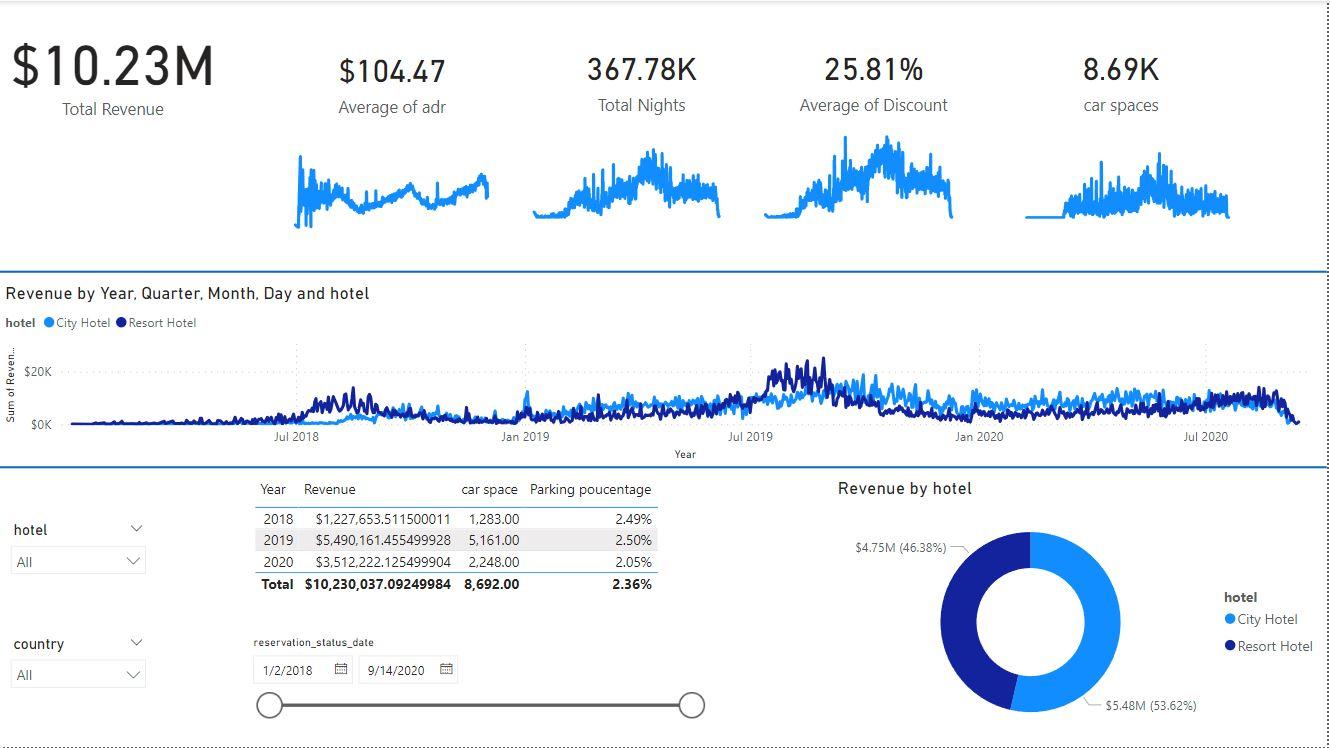

The dashboard page shown, as its layout file describes it:
{"tool":"powerbi","page":{"name":"Page 1","canvas":[1280,720],"ordinal":0},"visuals":[{"type":"card","fields":{"Values":["Sum(Query1.Revenue)"]},"box":[0,11,218.2,109.8],"z":0},{"type":"shape","box":[0,234.6,1280.3,149.6],"z":1},{"type":"shape","box":[0,374.6,1280.3,149.6],"z":2},{"type":"card","fields":{"Values":["Avg(Query1.adr)"]},"box":[231.9,16.5,293.7,119.4],"z":3},{"type":"card","fields":{"Values":["Query1.Total Nights"]},"box":[500.9,0,237.4,149.6],"z":4},{"type":"card","fields":{"Values":["Avg(Query1.Discount)"]},"box":[723.2,0,238.8,149.6],"z":5},{"type":"lineChart","title":"Revenue by Year, Quarter, Month, Day and hotel","fields":{"Y":["Sum(Query1.Revenue)"],"Category":["Query1.reservation_status_date.Variation.Date Hierarchy.Year","Query1.reservation_status_date.Variation.Date Hierarchy.Quarter","Query1.reservation_status_date.Variation.Date Hierarchy.Month","Query1.reservation_status_date.Variation.Date Hierarchy.Day"],"Series":["Query1.hotel"]},"box":[0,271.7,1280.3,177],"z":6},{"type":"slicer","fields":{"Values":["Query1.hotel"]},"box":[0,496.7,150.9,78.2],"z":7},{"type":"slicer","fields":{"Values":["Query1.country"]},"box":[0,606.5,150.9,57.6],"z":8},{"type":"lineChart","fields":{"Category":["Query1.reservation_status_date.Variation.Date Hierarchy.Year","Query1.reservation_status_date.Variation.Date Hierarchy.Quarter","Query1.reservation_status_date.Variation.Date Hierarchy.Month","Query1.reservation_status_date.Variation.Date Hierarchy.Day"],"Y":["Avg(Query1.adr)"]},"box":[270.3,120.8,215.4,104.3],"z":9},{"type":"lineChart","fields":{"Category":["Query1.reservation_status_date.Variation.Date Hierarchy.Year","Query1.reservation_status_date.Variation.Date Hierarchy.Quarter","Query1.reservation_status_date.Variation.Date Hierarchy.Month","Query1.reservation_status_date.Variation.Date Hierarchy.Day"],"Y":["Query1.Total Nights"]},"box":[500.9,111.1,208.6,104.3],"z":10},{"type":"lineChart","fields":{"Category":["Query1.reservation_status_date.Variation.Date Hierarchy.Year","Query1.reservation_status_date.Variation.Date Hierarchy.Quarter","Query1.reservation_status_date.Variation.Date Hierarchy.Month","Query1.reservation_status_date.Variation.Date Hierarchy.Day"],"Y":["Sum(Query1.Discount)"]},"box":[723.2,111.1,209.9,104.3],"z":11},{"type":"donutChart","fields":{"Category":["Query1.hotel"],"Y":["Sum(Query1.Revenue)"]},"box":[802.7,459.7,477.5,260.7],"z":12},{"type":"card","fields":{"Values":["Sum(Query1.required_car_parking_spaces)"]},"box":[961.9,27.4,238.8,93.3],"z":13},{"type":"lineChart","fields":{"Category":["Query1.reservation_status_date.Variation.Date Hierarchy.Year","Query1.reservation_status_date.Variation.Date Hierarchy.Quarter","Query1.reservation_status_date.Variation.Date Hierarchy.Month","Query1.reservation_status_date.Variation.Date Hierarchy.Day"],"Y":["Sum(Query1.required_car_parking_spaces)"]},"box":[975.6,111.1,225,104.3],"z":14},{"type":"shape","box":[0,185.2,1280.3,150.9],"z":15},{"type":"tableEx","fields":{"Values":["Query1.reservation_status_date.Variation.Date Hierarchy.Year","Sum(Query1.Revenue)","Sum(Query1.required_car_parking_spaces)","Query1.Parking poucentage"]},"box":[240.1,454.2,489.9,140],"z":16},{"type":"slicer","fields":{"Values":["Query1.reservation_status_date"]},"box":[231.9,606.5,456.9,102.9],"z":17}]}

Visuals, with their boxes in screenshot pixels (x1, y1, x2, y2), scaled from the page's 1280x720 canvas onto the 1330x748 screenshot:
card - Sum(Query1.Revenue): [0,11,227,125]
shape: [0,244,1329,399]
shape: [0,389,1329,545]
card - Avg(Query1.adr): [241,17,546,141]
card - Query1.Total Nights: [520,0,767,155]
card - Avg(Query1.Discount): [751,0,1000,155]
"Revenue by Year, Quarter, Month, Day and hotel" lineChart: [0,282,1329,466]
slicer - Query1.hotel: [0,516,157,597]
slicer - Query1.country: [0,630,157,690]
lineChart - Query1.reservation_status_date.Variation.Date Hierarchy.Year x Query1.reservation_status_date.Variation.Date Hierarchy.Quarter: [281,125,505,234]
lineChart - Query1.reservation_status_date.Variation.Date Hierarchy.Year x Query1.reservation_status_date.Variation.Date Hierarchy.Quarter: [520,115,737,224]
lineChart - Query1.reservation_status_date.Variation.Date Hierarchy.Year x Query1.reservation_status_date.Variation.Date Hierarchy.Quarter: [751,115,970,224]
donutChart - Query1.hotel x Sum(Query1.Revenue): [834,478,1329,747]
card - Sum(Query1.required_car_parking_spaces): [999,28,1248,125]
lineChart - Query1.reservation_status_date.Variation.Date Hierarchy.Year x Query1.reservation_status_date.Variation.Date Hierarchy.Quarter: [1014,115,1247,224]
shape: [0,192,1329,349]
tableEx - Query1.reservation_status_date.Variation.Date Hierarchy.Year x Sum(Query1.Revenue): [249,472,759,617]
slicer - Query1.reservation_status_date: [241,630,716,737]
